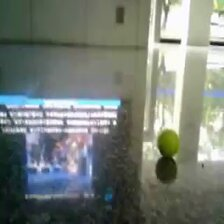tennis: (157, 129, 178, 156)
